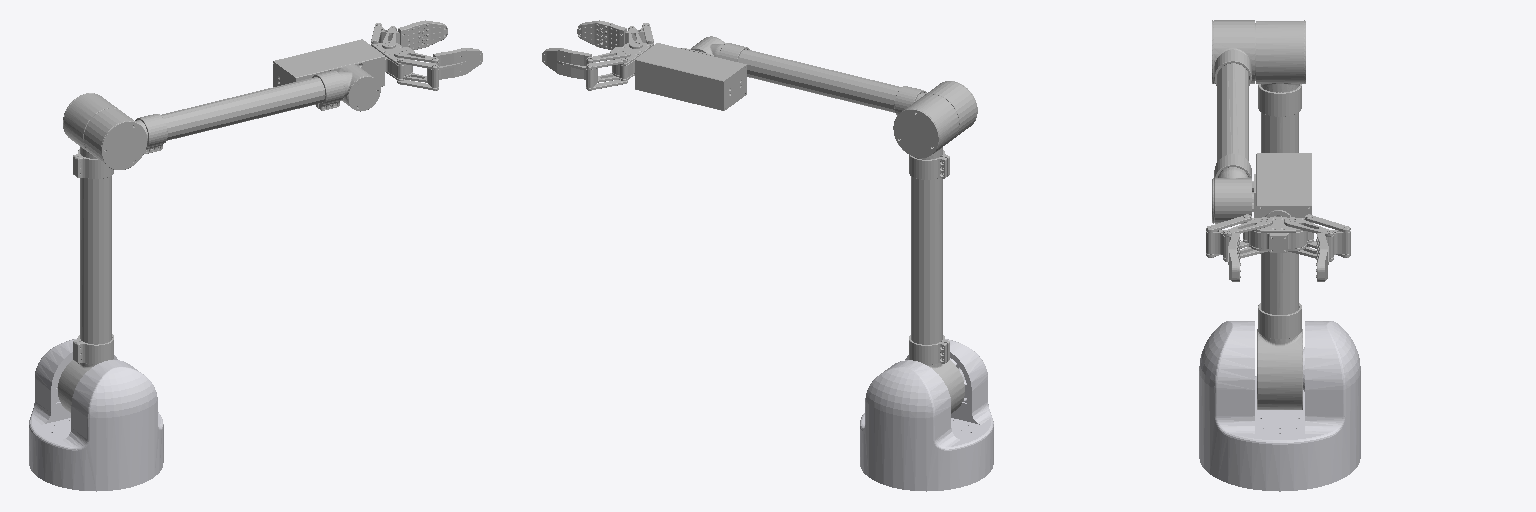
robot.urdf — tracked_robot_control:
<robot name="tracked_robot_control">
  <link
    name="base_link">
    <visual>
      <origin
        xyz="0 0 0"
        rpy="0 0 0" />
      <geometry>
        <mesh
          filename="package://tracked_robot_control/meshes/base_link.STL" />
      </geometry>
      <material
        name="">
        <color
          rgba="1 1 1 1" />
      </material>
    </visual>
    <collision>
      <origin
        xyz="0 0 0"
        rpy="0 0 0" />
      <geometry>
        <mesh
          filename="package://tracked_robot_control/meshes/base_link.STL" />
      </geometry>
    </collision>
  </link>
  <link
    name="link0">
    <visual>
      <origin
        xyz="0 0 0"
        rpy="0 0 0" />
      <geometry>
        <mesh
          filename="package://tracked_robot_control/meshes/link0.STL" />
      </geometry>
      <material
        name="">
        <color
          rgba="0.866666666666667 0.866666666666667 0.890196078431372 1" />
      </material>
    </visual>
    <collision>
      <origin
        xyz="0 0 0"
        rpy="0 0 0" />
      <geometry>
        <mesh
          filename="package://tracked_robot_control/meshes/link0.STL" />
      </geometry>
    </collision>
  </link>
  <joint
    name="joint0"
    type="revolute">
    <origin
      xyz="-0.253 0 0.0505"
      rpy="0 0 0" />
    <parent
      link="base_link" />
    <child
      link="link0" />
    <axis
      xyz="0 0 1" />
    <limit
      lower="-1.57"
      upper="1.57"
      effort="100"
      velocity="20.943951" />
  </joint>
  <link
    name="link1">
    <visual>
      <origin
        xyz="0 0 0"
        rpy="0 0 0" />
      <geometry>
        <mesh
          filename="package://tracked_robot_control/meshes/link1.STL" />
      </geometry>
      <material
        name="">
        <color
          rgba="0.752941176470588 0.752941176470588 0.752941176470588 1" />
      </material>
    </visual>
    <collision>
      <origin
        xyz="0 0 0"
        rpy="0 0 0" />
      <geometry>
        <mesh
          filename="package://tracked_robot_control/meshes/link1.STL" />
      </geometry>
    </collision>
  </link>
  <joint
    name="joint1"
    type="revolute">
    <origin
      xyz="0 0 0.1535"
      rpy="1.5708 0 -3.1416" />
    <parent
      link="link0" />
    <child
      link="link1" />
    <axis
      xyz="0 0 1" />
    <limit
      lower="-1.22"
      upper="1.22"
      effort="100"
      velocity="20.943951" />
  </joint>
  <link
    name="link2">
    <visual>
      <origin
        xyz="0 0 0"
        rpy="0 0 0" />
      <geometry>
        <mesh
          filename="package://tracked_robot_control/meshes/link2.STL" />
      </geometry>
      <material
        name="">
        <color
          rgba="0.752941176470588 0.752941176470588 0.752941176470588 1" />
      </material>
    </visual>
    <collision>
      <origin
        xyz="0 0 0"
        rpy="0 0 0" />
      <geometry>
        <mesh
          filename="package://tracked_robot_control/meshes/link2.STL" />
      </geometry>
    </collision>
  </link>
  <joint
    name="joint2"
    type="revolute">
    <origin
      xyz="0 0.542 -0.0725"
      rpy="0 0 1.5708" />
    <parent
      link="link1" />
    <child
      link="link2" />
    <axis
      xyz="0 0 1" />
    <limit
      lower="-3.14"
      upper="1.22"
      effort="100"
      velocity="10.4719755" />
  </joint>
  <link
    name="link3">
    <visual>
      <origin
        xyz="0 0 0"
        rpy="0 0 0" />
      <geometry>
        <mesh
          filename="package://tracked_robot_control/meshes/link3.STL" />
      </geometry>
      <material
        name="">
        <color
          rgba="0.752941176470588 0.752941176470588 0.752941176470588 1" />
      </material>
    </visual>
    <collision>
      <origin
        xyz="0 0 0"
        rpy="0 0 0" />
      <geometry>
        <mesh
          filename="package://tracked_robot_control/meshes/link3.STL" />
      </geometry>
    </collision>
  </link>
  <joint
    name="joint3"
    type="revolute">
    <origin
      xyz="-0.014 0.515 0.07"
      rpy="0 0 1.5708" />
    <parent
      link="link2" />
    <child
      link="link3" />
    <axis
      xyz="0 0 1" />
    <limit
      lower="-1.57"
      upper="1.57"
      effort="100"
      velocity="52.3598775" />
  </joint>
  <link
    name="link4">
    <visual>
      <origin
        xyz="0 0 0"
        rpy="0 0 0" />
      <geometry>
        <mesh
          filename="package://tracked_robot_control/meshes/link4.STL" />
      </geometry>
      <material
        name="">
        <color
          rgba="0.752941176470588 0.752941176470588 0.752941176470588 1" />
      </material>
    </visual>
    <collision>
      <origin
        xyz="0 0 0"
        rpy="0 0 0" />
      <geometry>
        <mesh
          filename="package://tracked_robot_control/meshes/link4.STL" />
      </geometry>
    </collision>
  </link>
  <joint
    name="joint4"
    type="revolute">
    <origin
      xyz="0.22166 0 0"
      rpy="1.5708 0 1.5708" />
    <parent
      link="link3" />
    <child
      link="link4" />
    <axis
      xyz="0 0 1" />
    <limit
      lower="-3.14"
      upper="3.14"
      effort="0"
      velocity="52.3598775" />
  </joint>
</robot>

--- Facts derived from the render (not from the file) ---
The picture shows the robot from 3 angles, left to right: view 1: azimuth 30°, elevation 25°; view 2: azimuth 150°, elevation 25°; view 3: azimuth 270°, elevation 25°; orthographic projection.
Robot: tracked_robot_control — 6 links, 5 joints (5 revolute); root link base_link; default pose: every joint at zero.
Links seen in each view (by area): view 1: link0, link2, link1, link4, link3; view 2: link0, link1, link2, link3, link4; view 3: link0, link1, link2, link4, link3.
Link boxes in pixels (x1,y1,x2,y2): link0: [29, 338, 163, 491]; link2: [84, 65, 380, 169]; link1: [58, 93, 120, 412]; link4: [371, 20, 482, 90]; link3: [273, 39, 384, 86]; link0: [860, 339, 993, 491]; link1: [893, 94, 964, 413]; link2: [691, 36, 977, 137]; link3: [635, 43, 746, 110]; link4: [542, 20, 653, 90]; link0: [1199, 321, 1360, 491]; link1: [1255, 20, 1305, 409]; link2: [1212, 20, 1254, 223]; link4: [1206, 214, 1350, 281]; link3: [1252, 153, 1311, 217].
Size in the robot's own frame: 0.9117 by 0.25 by 0.741 metres.
5 mesh visuals loaded from 6 distinct referenced files (5 binary STL); not drawn: 1 (reference not matched to a file when rendering).